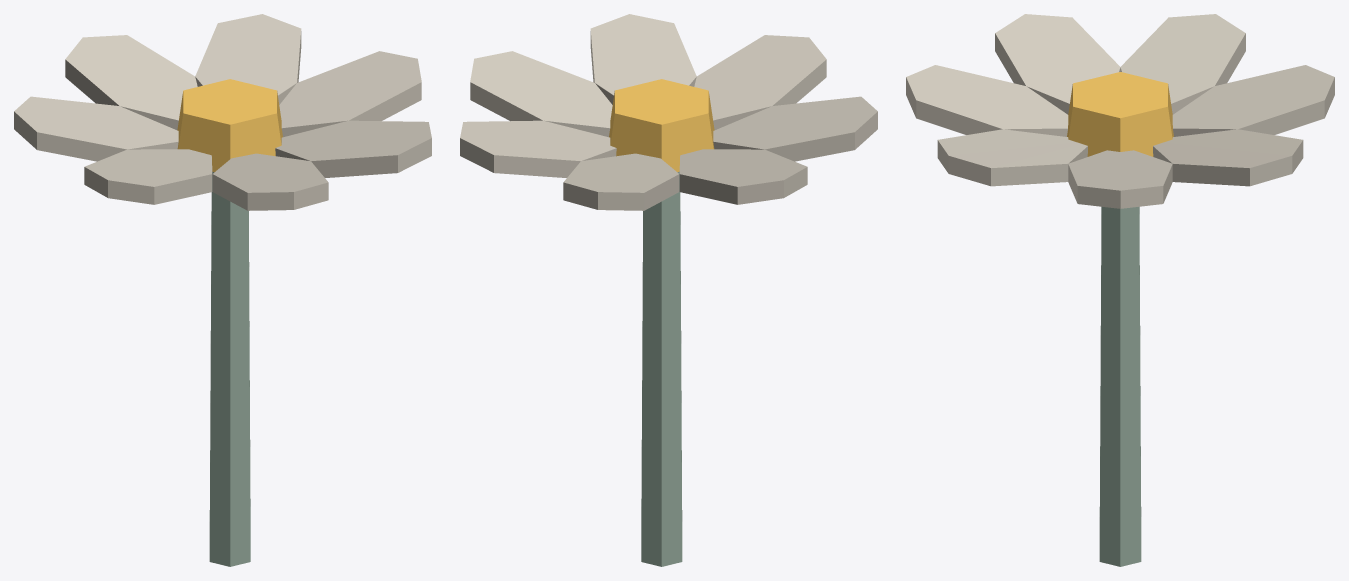
Rendered from coastal_daisy.obj.
3 views of the same model, side by side, from view 1: azimuth 30°, elevation 25°; view 2: azimuth 150°, elevation 25°; view 3: azimuth 270°, elevation 25° (orthographic).
Visible parts, largest first — view 1: coastal_daisy; view 2: coastal_daisy; view 3: coastal_daisy.
Boxes of the visible parts, x1,y1,x2,y2 form: coastal_daisy: (14,14,431,566); coastal_daisy: (460,14,877,566); coastal_daisy: (906,14,1334,566).
Size of the model in its own units: 0.3121 by 0.38 by 0.3198.
